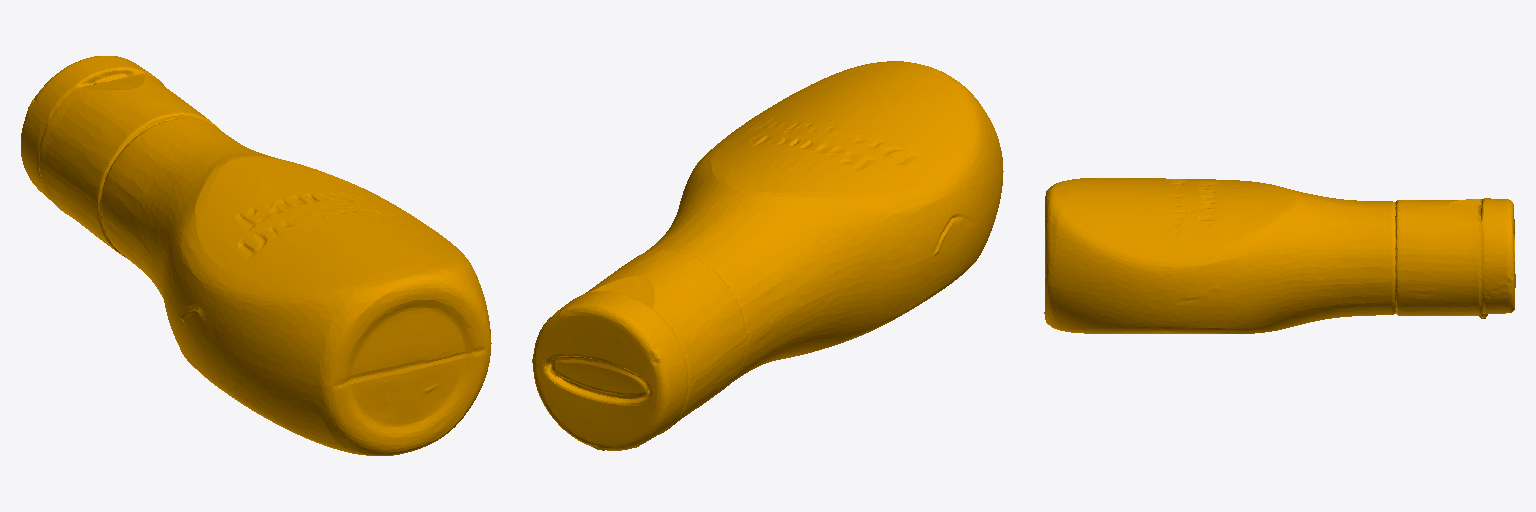
robot.urdf — new_salad_dressing:
<?xml version="1.0"?>
<!-- GENERATED by tasks/libero/build_env/build_object_urdf.py. Do not hand edit.

     LIBERO object `new_salad_dressing`, spawnable by the TRO-MP env.
     Role: graspable target object (envs/), one of the 22 LIBERO target assets.

     WHY a URDF when envs/new_salad_dressing/ may also hold a USD: this env spawns objects
     only through `assets.object_urdf` (scene_utils.py:1929, which calls
     _convert_urdf_to_usd at :1964). The assets dataclass declares no USD field,
     so a ready-made USD cannot be handed to this code path.

     Mesh coordinates are PRESERVED, not re-centred: 11 of 22 LIBERO envs have
     their mesh origin at the object's base, and `goal_traj` tracks that origin.
     Re-centring would offset the object from its own trajectory every frame.

     Mass: density 800.0 kg/m^3 x mesh volume 2.289148e-04 m^3
     Inertia: solid-box approximation about the COM at that mass, NOT the true
     mesh inertia tensor. Adequate for a graspable tabletop object; revisit if
     spin dynamics matter.

     Collision: the full mesh, decomposed by Isaac's URDF importer. The convex
     decomposition authored in the DexVerse USD is NOT reproduced here.
-->
<robot name="new_salad_dressing">
  <link name="new_salad_dressing">
    <inertial>
      <origin xyz="-0.000644 -0.011556 -0.000206" rpy="0 0 0"/>
      <mass value="0.183132"/>
      <inertia ixx="3.608925e-04" ixy="0" ixz="0" iyy="9.172316e-05" iyz="0" izz="3.943398e-04"/>
    </inertial>
    <visual>
      <origin xyz="0 0 0" rpy="0 0 0"/>
      <geometry><mesh filename="new_salad_dressing.obj" scale="1 1 1"/></geometry>
    </visual>
    <collision>
      <origin xyz="0 0 0" rpy="0 0 0"/>
      <geometry><mesh filename="new_salad_dressing.obj" scale="1 1 1"/></geometry>
    </collision>
  </link>
</robot>

--- What the picture shows (computed from the rendered views, not written in the file) ---
3 views of the same robot in one strip: view 1: azimuth 30°, elevation 25°; view 2: azimuth 150°, elevation 25°; view 3: azimuth 270°, elevation 25° (orthographic).
Robot: new_salad_dressing — 1 links, 0 joints (none); root link new_salad_dressing; default pose: every joint at zero.
Visible links, largest first — view 1: new_salad_dressing; view 2: new_salad_dressing; view 3: new_salad_dressing.
Link boxes in pixels (x1,y1,x2,y2): new_salad_dressing: (21, 56, 491, 455); new_salad_dressing: (532, 61, 1003, 450); new_salad_dressing: (1044, 178, 1515, 333).
Bounding box of the posed robot: 0.064 × 0.1474 × 0.0437 m (x, y, z).
1 mesh visuals loaded from 1 distinct referenced files (1 OBJ).
